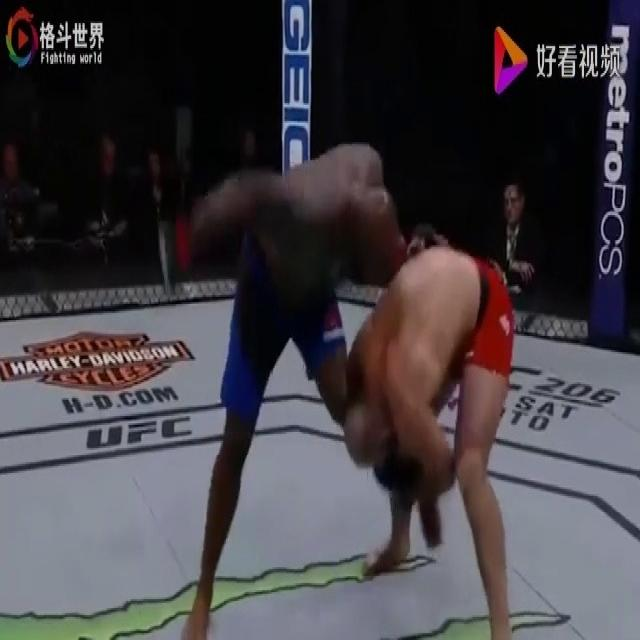fight: (165, 134, 527, 638)
